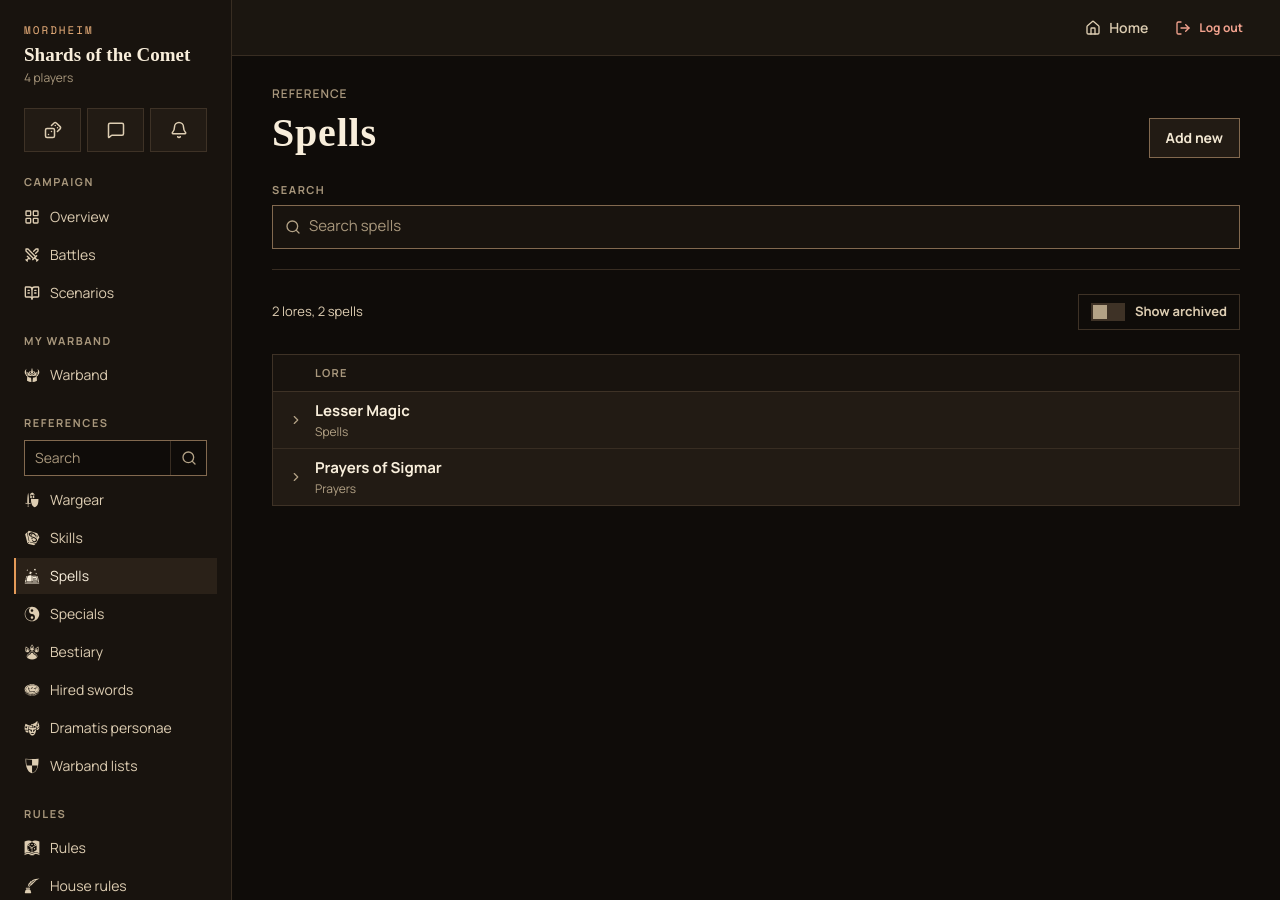
Test: The Spells page › marks a prayer list Prayers, its table headed Prayer
The image size is (1280, 900).
Click the button "Prayers of Sigmar Prayers" at (378, 468), box top-left (273, 449), bottom-right (1239, 505)
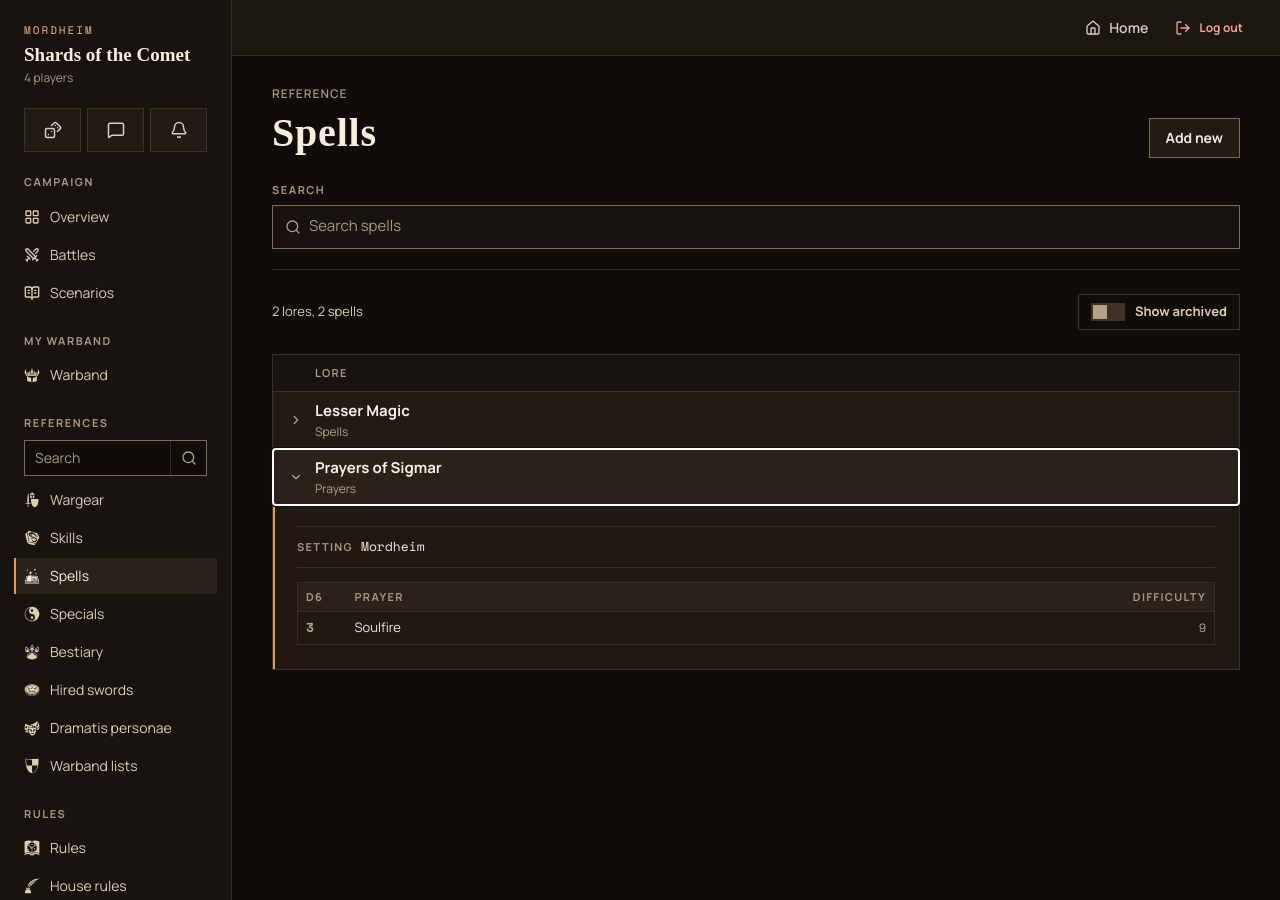
Expected: the rows read "D6PrayerDifficulty", "3Soulfire9", in this order, top-left (298, 582), bottom-right (1214, 612); top-left (298, 612), bottom-right (1214, 644)
